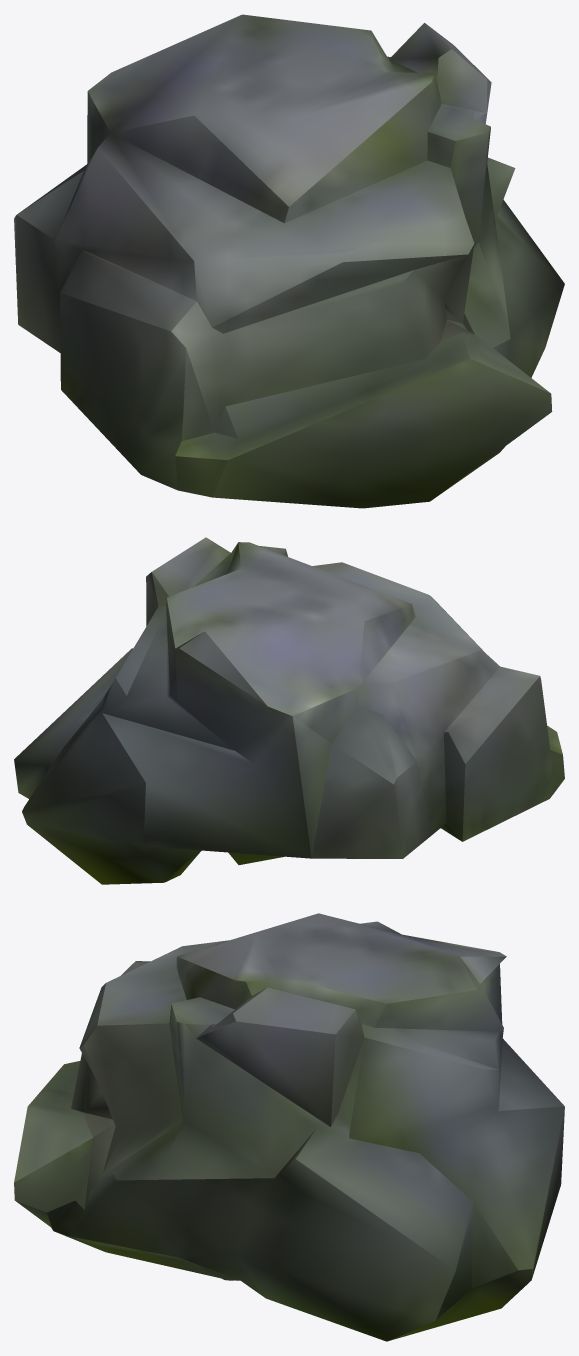
File: rock-5.glb
The picture shows the model from 3 angles, top to bottom: view 1: azimuth 30°, elevation 25°; view 2: azimuth 150°, elevation 25°; view 3: azimuth 270°, elevation 25°; orthographic projection. The views are drawn at different scales.
Parts seen in each view (by area): view 1: Rock_Big_2; view 2: Rock_Big_2; view 3: Rock_Big_2.
Part boxes in pixels (bbox=[...]): Rock_Big_2: bbox=[14, 14, 564, 508]; Rock_Big_2: bbox=[14, 537, 564, 884]; Rock_Big_2: bbox=[14, 913, 564, 1341].
Size of the model in its own units: 1.66 by 1.07 by 1.66.
Materials: 1 (1 with a texture image).
